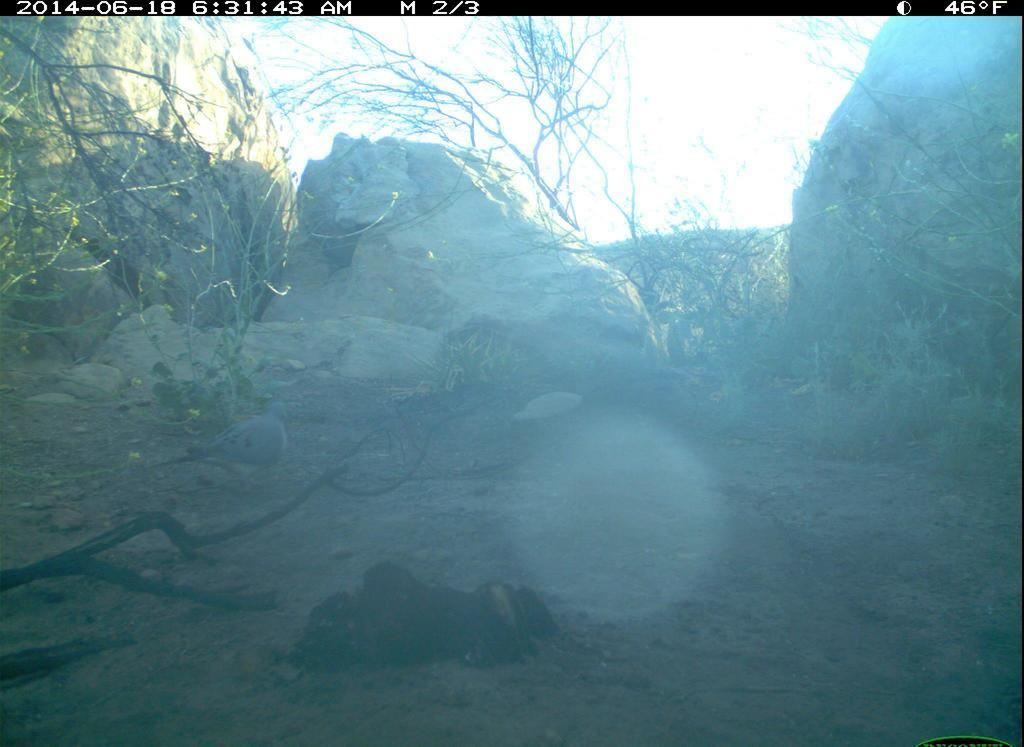bird: (180, 393, 300, 500)
